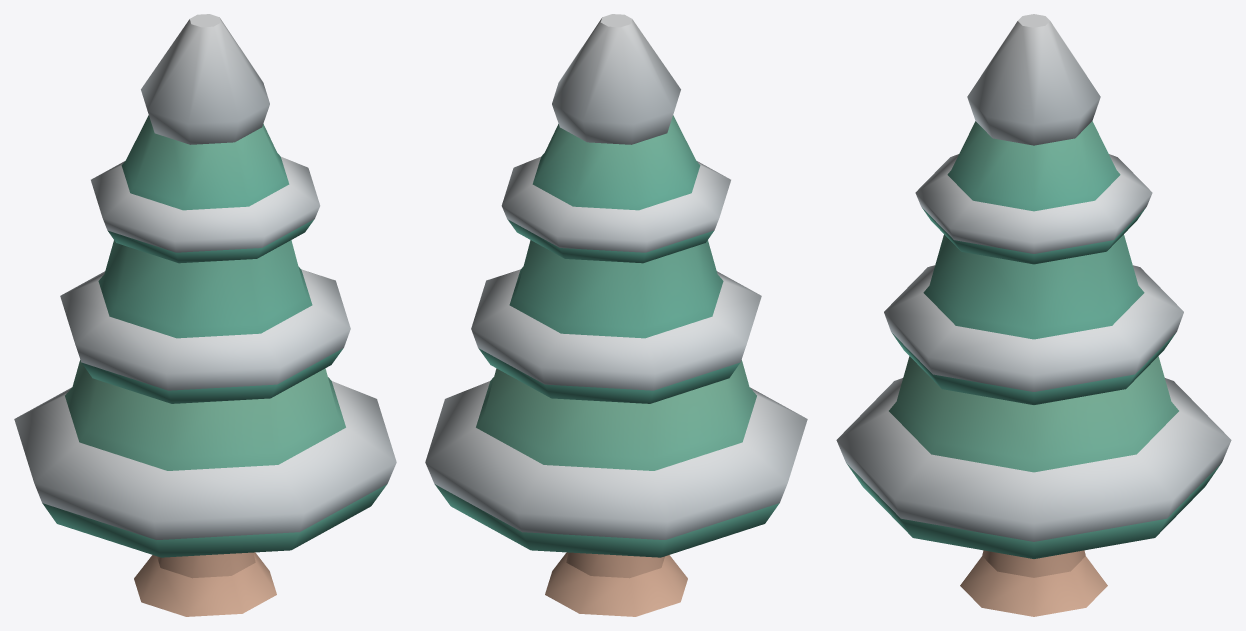
The model's file is tree_snow_b.glb.
3 renders of one model, left to right at view 1: azimuth 30°, elevation 25°; view 2: azimuth 150°, elevation 25°; view 3: azimuth 270°, elevation 25°, orthographic.
Visible parts, largest first — view 1: tree_snow_b; view 2: tree_snow_b; view 3: tree_snow_b.
Part boxes in pixels (x1,y1,x2,y2): tree_snow_b: (14,14,396,616); tree_snow_b: (425,14,807,616); tree_snow_b: (836,14,1231,616).
Bounding box in the file's own units: 45.66 × 72 × 45.66.
